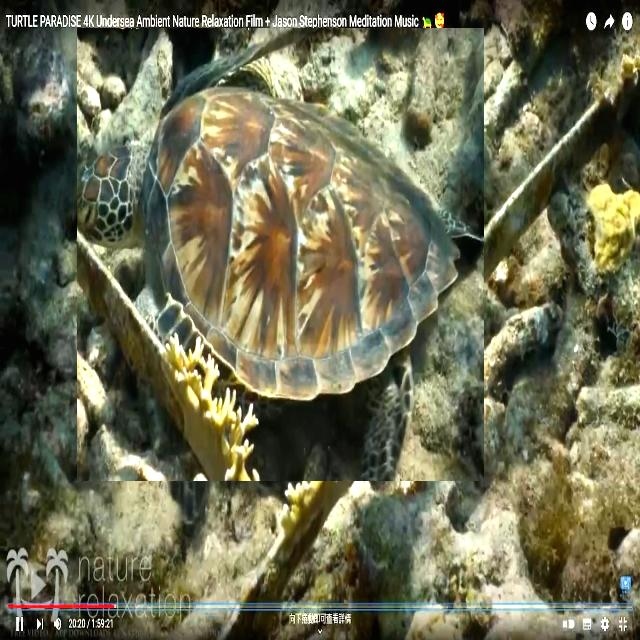Sea turtle: (78, 28, 486, 481)
